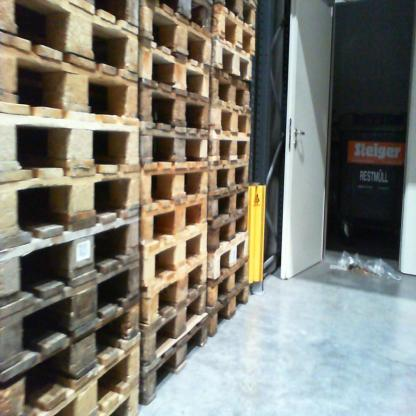pallet: (2, 249, 139, 372), (4, 290, 140, 413), (4, 154, 141, 272), (3, 206, 143, 320), (1, 26, 141, 124), (3, 98, 144, 187), (1, 2, 140, 71), (45, 328, 141, 413), (140, 315, 208, 404), (143, 215, 212, 301), (136, 281, 207, 364), (131, 189, 208, 265), (129, 256, 209, 323), (138, 36, 209, 105), (141, 4, 212, 63), (142, 154, 209, 214), (137, 76, 209, 124), (137, 119, 207, 168), (203, 280, 252, 343), (204, 67, 255, 113), (207, 156, 257, 201), (208, 40, 258, 85), (139, 1, 213, 31), (215, 9, 260, 57), (208, 256, 251, 305), (207, 206, 251, 251), (209, 93, 254, 137), (101, 369, 145, 413), (205, 126, 254, 163), (209, 232, 250, 276), (206, 183, 251, 219), (85, 3, 143, 28), (216, 4, 257, 23)
